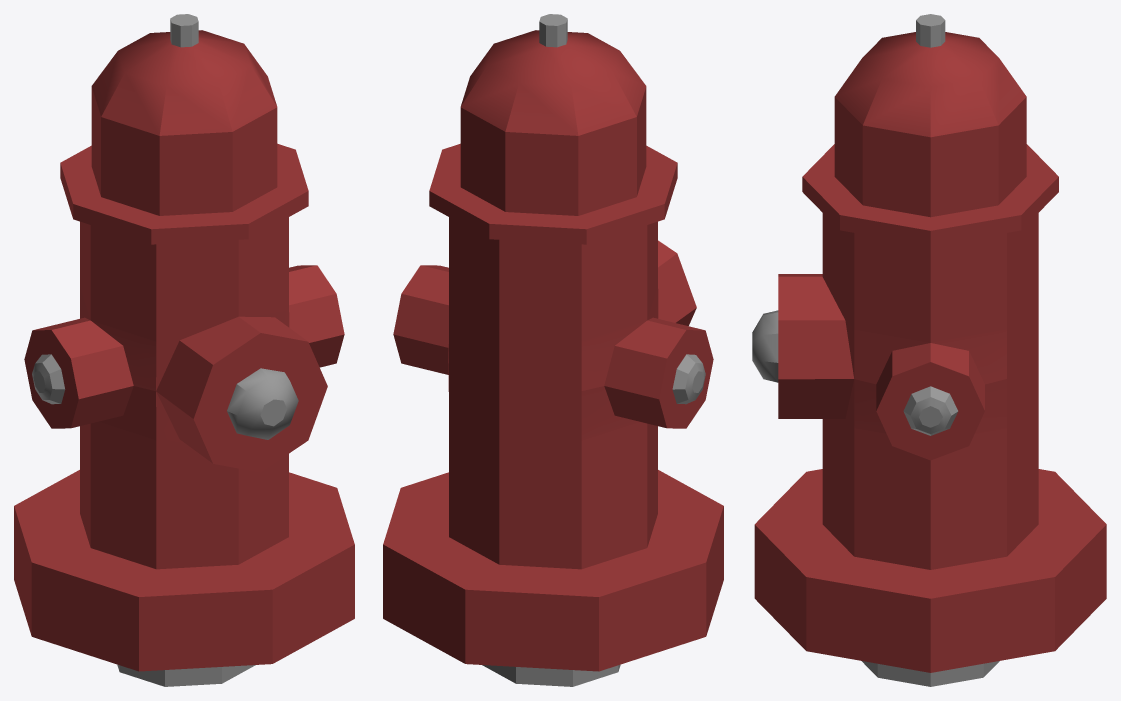
The model's file is FireHydrant.fbx.
The picture shows the model from 3 angles, left to right: view 1: azimuth 30°, elevation 25°; view 2: azimuth 150°, elevation 25°; view 3: azimuth 270°, elevation 25°; orthographic projection.
Visible parts, largest first — view 1: pCylinder5; view 2: pCylinder5; view 3: pCylinder5.
Boxes of the visible parts, left/top/right/bottom form: pCylinder5: left=14, top=14, right=354, bottom=686; pCylinder5: left=383, top=14, right=723, bottom=686; pCylinder5: left=752, top=14, right=1106, bottom=686.
Size of the model in its own units: 35.68 by 71.03 by 35.92.
